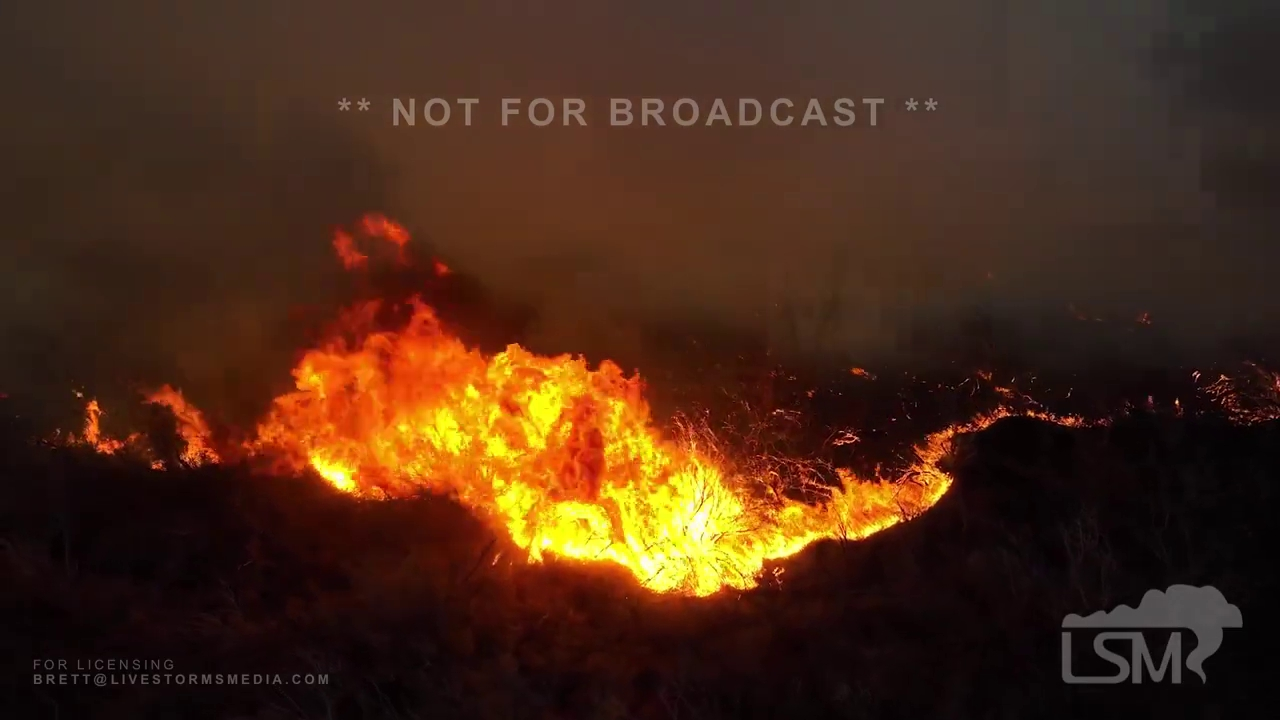forest_fire: (149, 306, 1007, 595), (76, 401, 143, 453)
